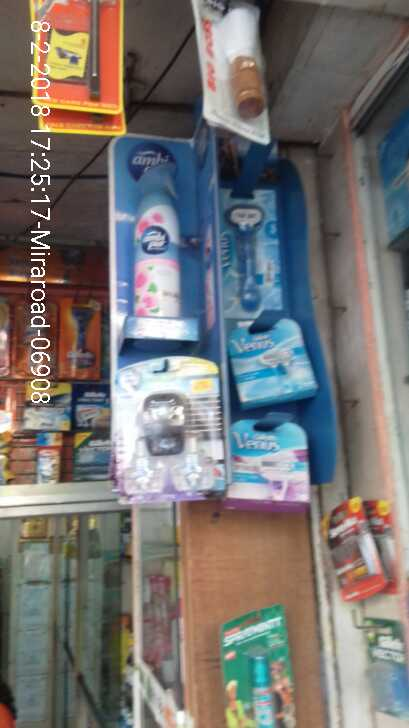beauty: (221, 180, 282, 312), (224, 315, 321, 398), (229, 411, 315, 504)
home: (129, 155, 191, 325), (124, 357, 207, 479)
